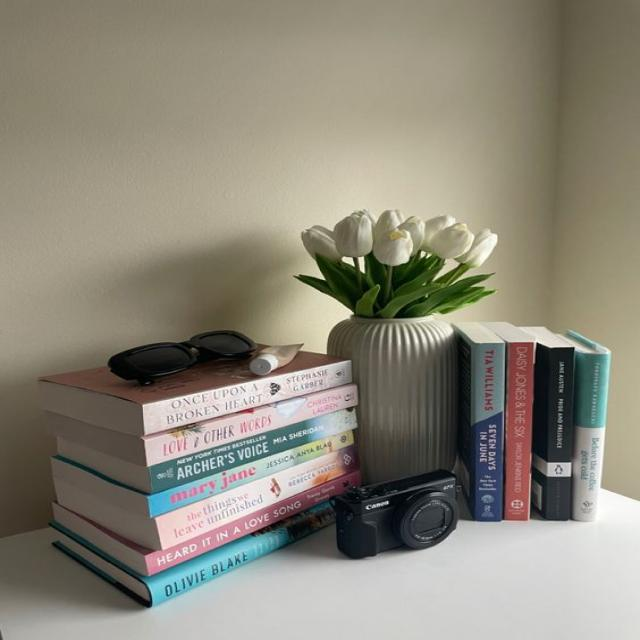book: (148, 469, 363, 576), (156, 445, 359, 549), (151, 502, 334, 604), (149, 407, 357, 493), (149, 430, 354, 517), (145, 383, 357, 467), (144, 361, 350, 434), (474, 342, 502, 521), (507, 342, 530, 521), (578, 353, 602, 520), (549, 348, 572, 519)
camera: (335, 470, 458, 558)
flowers: (295, 210, 496, 483)
